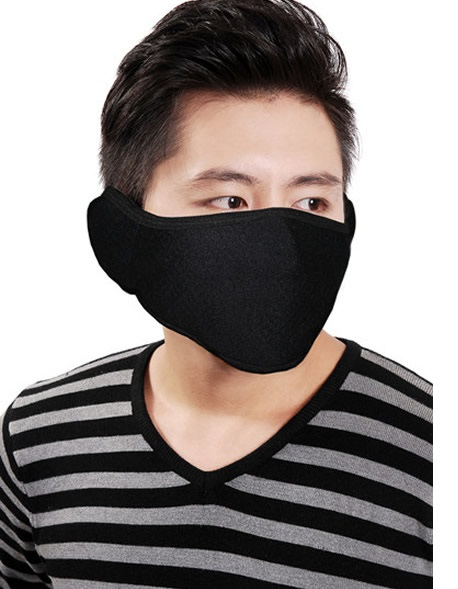face_mask: (151, 89, 346, 380)
